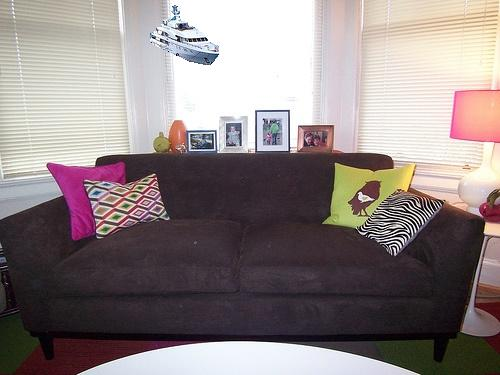tampered: (151, 6, 219, 65)
